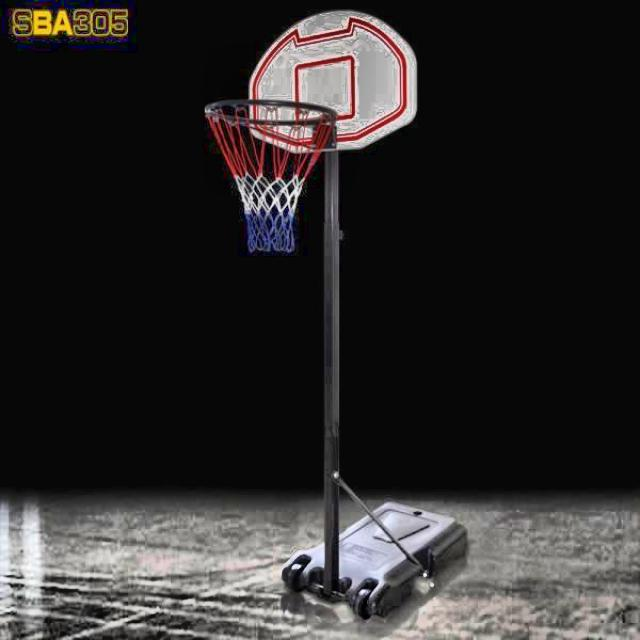rim: (202, 98, 336, 255)
